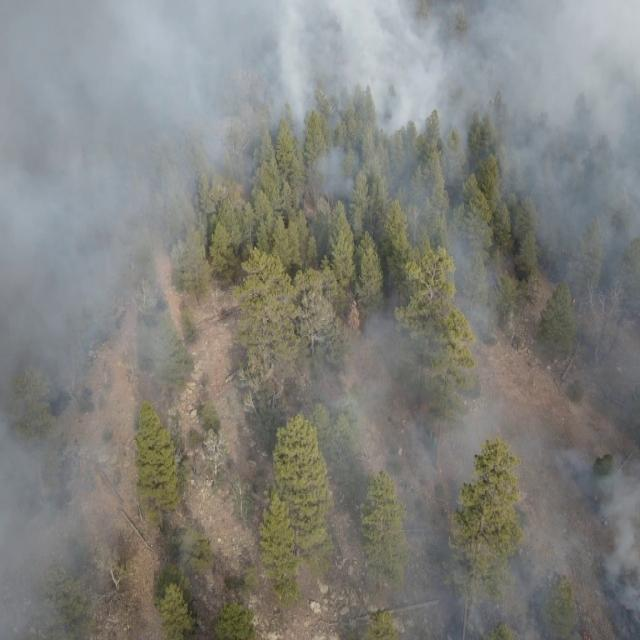smoke: (133, 0, 640, 245), (326, 325, 640, 640), (1, 0, 134, 640), (194, 323, 328, 428), (134, 245, 193, 416), (436, 246, 499, 326), (357, 256, 409, 326)
